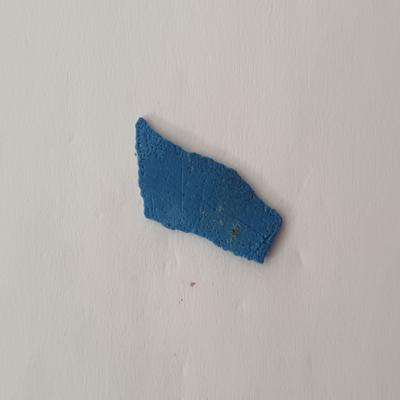plastic: (126, 109, 293, 267)
